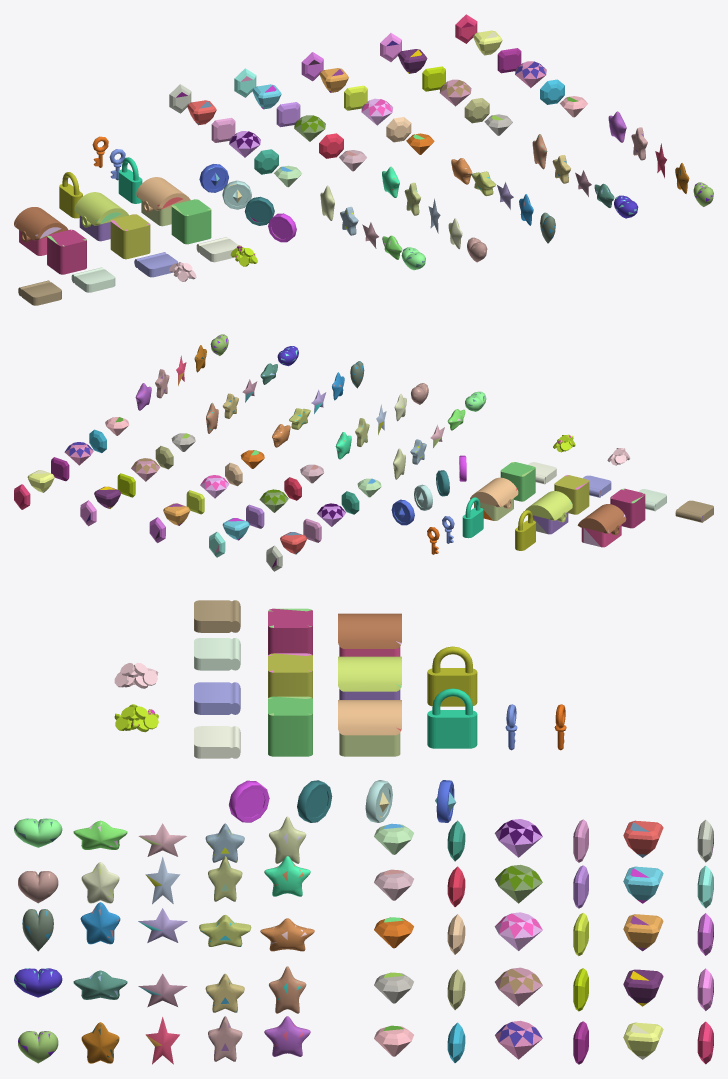
Rendered from Props.fbx.
3 views of the same model, one above another, from view 1: azimuth 30°, elevation 25°; view 2: azimuth 150°, elevation 25°; view 3: azimuth 270°, elevation 25° (orthographic). The views are drawn at different scales.
Visible parts, largest first — view 1: 021-0-21, 001-0-1, 022-0-22, 019-0-19, 017-0-17, 020-0-20, 072-0-72, 024-0-24, 025-0-25, 002-0-2, 023-0-23, 009-0-9 (+29 smaller); view 2: 022-0-22, 020-0-20, 019-0-19, 017-0-17, 001-0-1, 021-0-21, 072-0-72, 002-0-2, 025-0-25, 073-0-73, 070-0-70, 042-0-42 (+15 smaller); view 3: 001-0-1, 072-0-72, 020-0-20, 019-0-19, 017-0-17, 002-0-2, 022-0-22, 021-0-21, 009-0-9, 025-0-25, 024-0-24, 023-0-23 (+42 smaller).
Boxes of the visible parts, x1=… form: 021-0-21: x1=110, y1=214, x2=150, y2=259; 001-0-1: x1=171, y1=199, x2=211, y2=244; 022-0-22: x1=47, y1=229, x2=86, y2=274; 019-0-19: x1=74, y1=192, x2=128, y2=227; 017-0-17: x1=136, y1=177, x2=190, y2=212; 020-0-20: x1=14, y1=207, x2=68, y2=242; 072-0-72: x1=118, y1=157, x2=142, y2=203; 024-0-24: x1=71, y1=267, x2=115, y2=292; 025-0-25: x1=18, y1=280, x2=61, y2=305; 002-0-2: x1=59, y1=172, x2=82, y2=218; 023-0-23: x1=134, y1=252, x2=177, y2=277; 009-0-9: x1=196, y1=237, x2=238, y2=262; 022-0-22: x1=610, y1=488, x2=645, y2=528; 020-0-20: x1=577, y1=504, x2=626, y2=535; 019-0-19: x1=525, y1=491, x2=572, y2=522; 017-0-17: x1=470, y1=477, x2=518, y2=508; 001-0-1: x1=500, y1=462, x2=535, y2=501; 021-0-21: x1=554, y1=475, x2=589, y2=514; 072-0-72: x1=462, y1=497, x2=483, y2=538; 002-0-2: x1=515, y1=510, x2=535, y2=550; 025-0-25: x1=675, y1=500, x2=713, y2=522; 073-0-73: x1=581, y1=524, x2=621, y2=547; 070-0-70: x1=391, y1=499, x2=414, y2=525; 042-0-42: x1=131, y1=458, x2=160, y2=481; 001-0-1: x1=268, y1=696, x2=312, y2=756; 072-0-72: x1=427, y1=688, x2=477, y2=748; 020-0-20: x1=338, y1=613, x2=401, y2=648; 019-0-19: x1=338, y1=656, x2=401, y2=691; 017-0-17: x1=338, y1=700, x2=401, y2=735; 002-0-2: x1=427, y1=646, x2=477, y2=706; 022-0-22: x1=268, y1=608, x2=312, y2=655; 021-0-21: x1=268, y1=653, x2=312, y2=698; 009-0-9: x1=194, y1=726, x2=240, y2=758; 025-0-25: x1=194, y1=600, x2=240, y2=632; 024-0-24: x1=194, y1=638, x2=240, y2=670; 023-0-23: x1=194, y1=682, x2=240, y2=714.
Size of the model in its own units: 334130 by 27137 by 224570.
